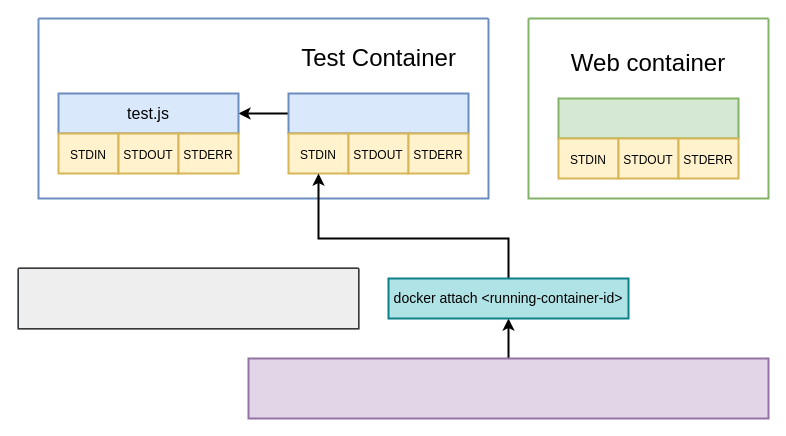
Image size: 786x436. Some labels were removed from this diagram. The shapes that lost their labels are listed below. From the top down, each one's box as (x1, y1, x2, y2) in pixels, then its label:
(287, 92, 469, 134): npm run
(557, 97, 739, 139): npm start
(18, 268, 358, 328): using docker attach to attach our terminal to STDIN of running test container
(247, 357, 769, 419): OUR TERMINAL
